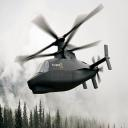helicopter: (11, 1, 117, 105)
